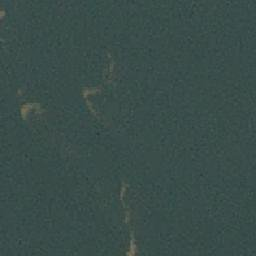debris: (117, 181, 134, 221), (80, 88, 96, 115), (20, 102, 39, 118), (126, 231, 137, 255)
